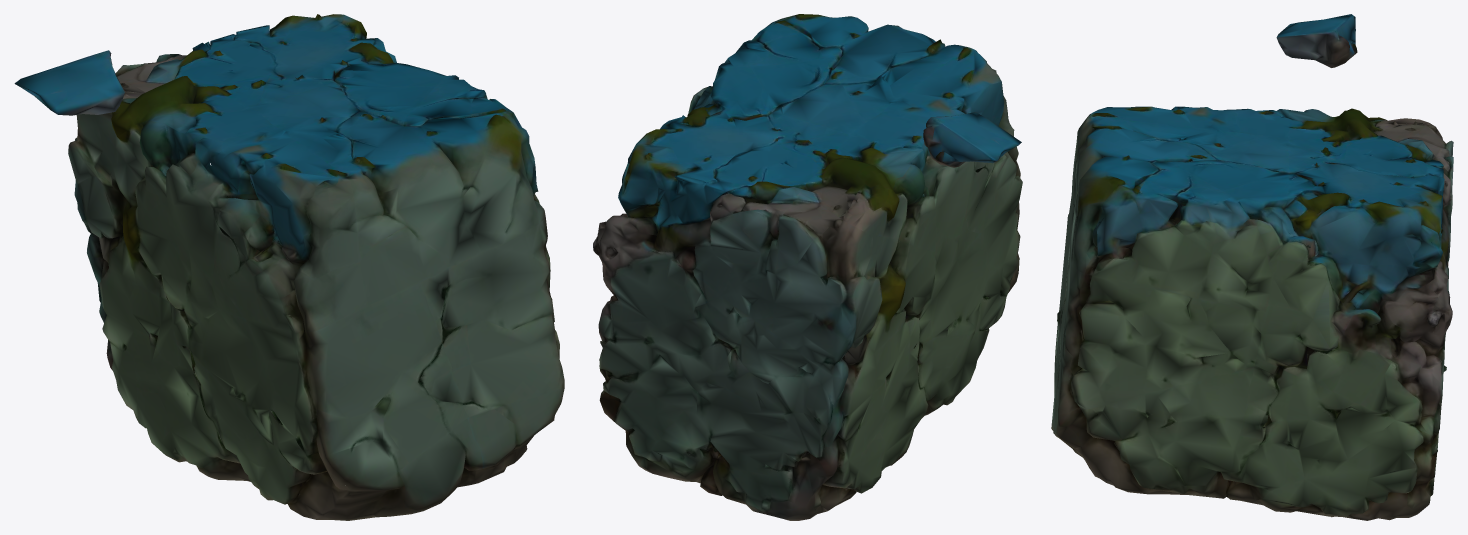
Rendered from rock_block.glb.
The picture shows the model from 3 angles, left to right: view 1: azimuth 30°, elevation 25°; view 2: azimuth 150°, elevation 25°; view 3: azimuth 270°, elevation 25°; orthographic projection. The views are drawn at different scales.
Parts seen in each view (by area): view 1: tripo_node_36b12fee; view 2: tripo_node_36b12fee; view 3: tripo_node_36b12fee.
Boxes of the visible parts, x1,y1,x2,y2 form: tripo_node_36b12fee: (14, 14, 564, 520); tripo_node_36b12fee: (593, 14, 1022, 520); tripo_node_36b12fee: (1051, 14, 1453, 520).
Bounding box in the file's own units: 0.9393 × 0.9784 × 0.9335.
1 material, 1 textured.
